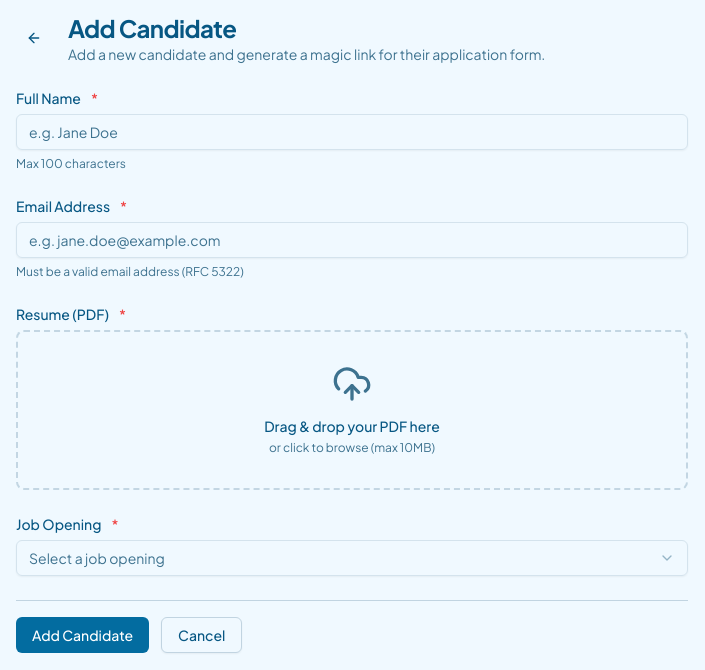
Test case: CreateCandidatePage › validates email format
Type "not-an-email" into the field labelled "Email Address *".
click(352, 240); type("not-an-email")  # box [16,222,688,258]
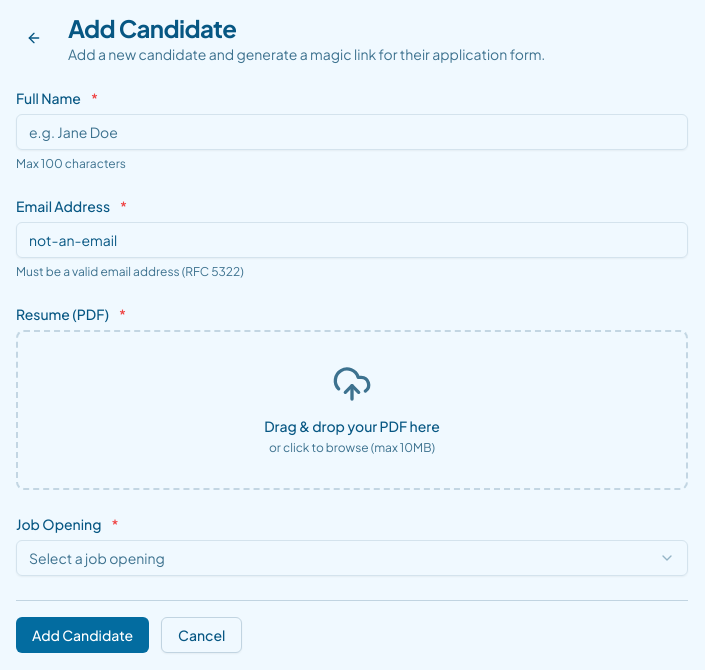
Leave the field labelled "Email Address *", box [16,222,688,258]
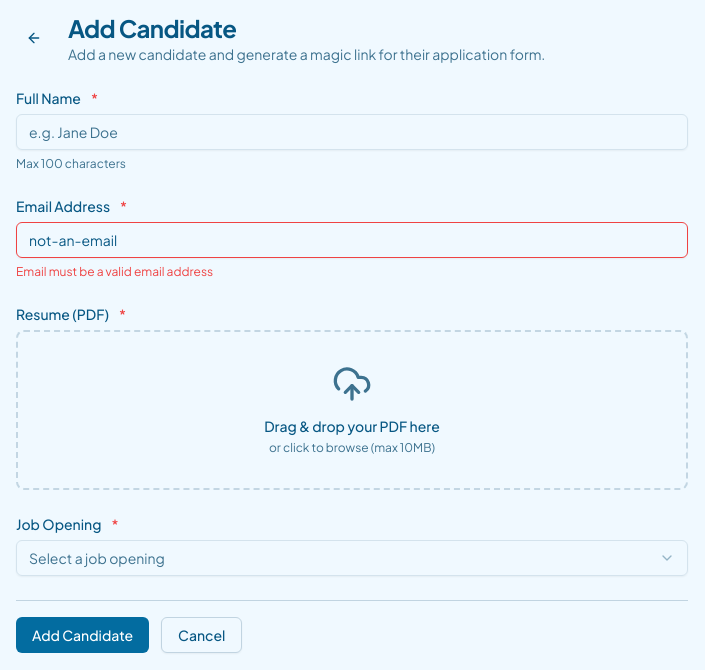
Expected: the text "Email must be a valid email address" is shown, [16,264,213,279]
